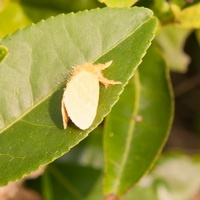insect: (61, 60, 121, 129)
